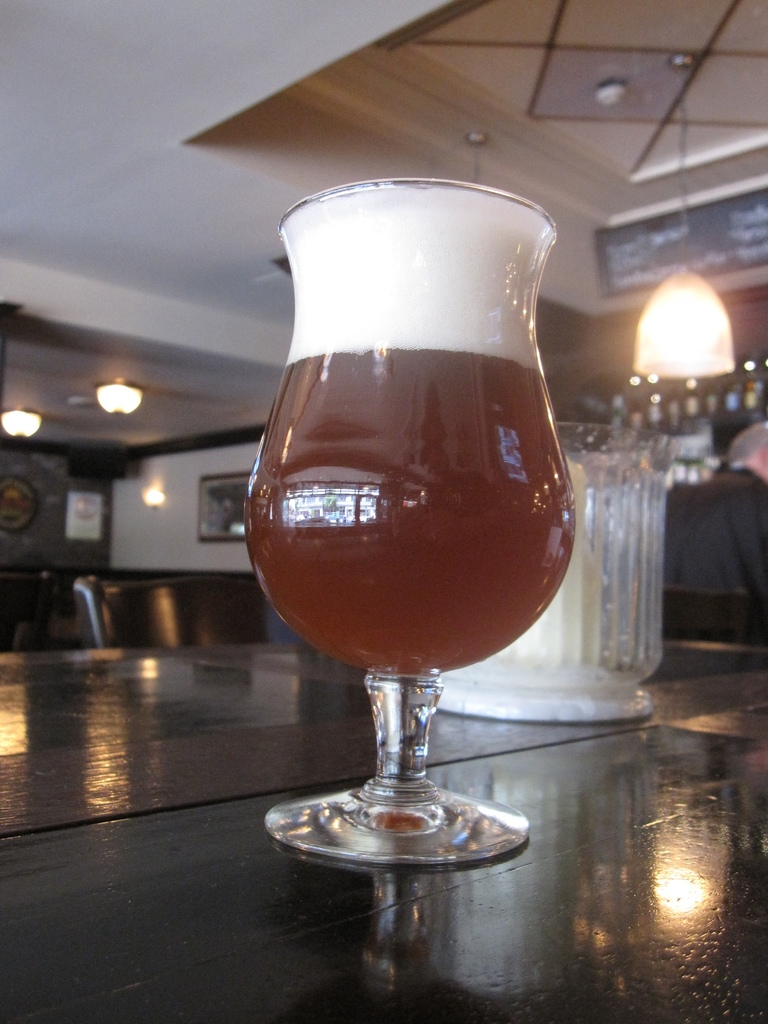Beer: (247, 189, 574, 679)
